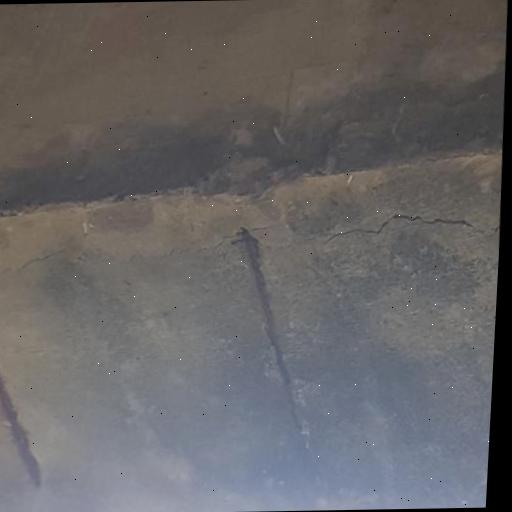exposed_rebar: (241, 228, 301, 433), (0, 375, 41, 487)
